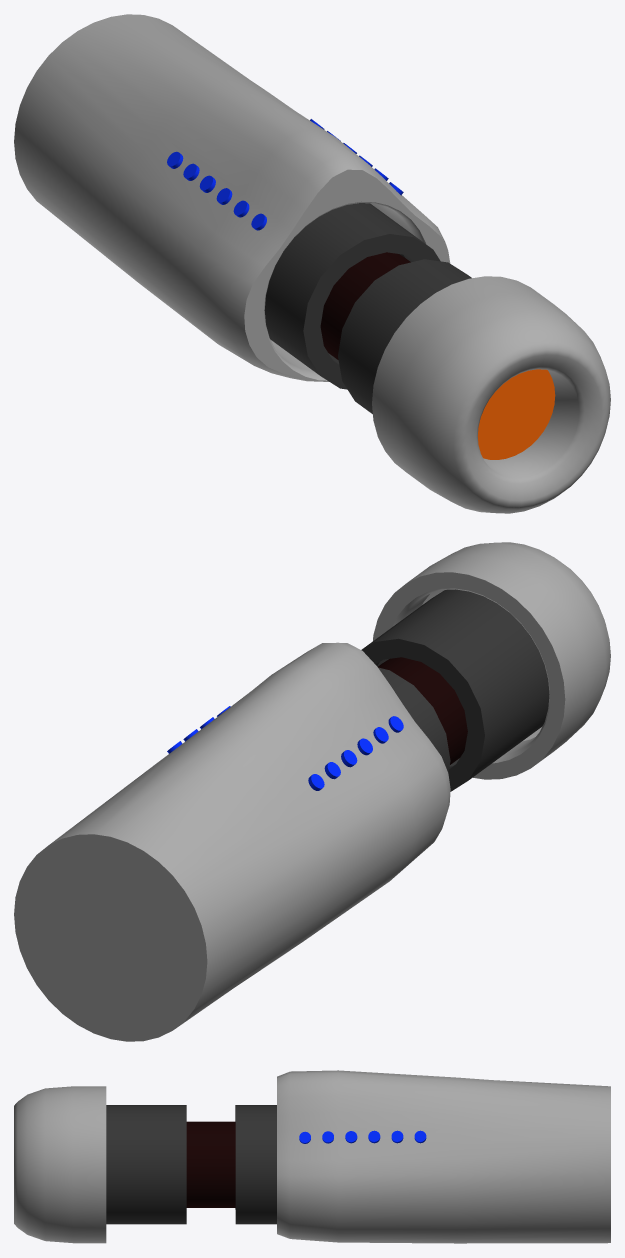
Rendered from PPWeapon.FBX.
3 views of the same model, one above another, from view 1: azimuth 30°, elevation 25°; view 2: azimuth 150°, elevation 25°; view 3: azimuth 270°, elevation 25° (orthographic). The views are drawn at different scales.
Visible parts, largest first — view 1: Weapon; view 2: Weapon; view 3: Weapon.
Part boxes in pixels (bbox=[...]): Weapon: bbox=[14, 14, 610, 513]; Weapon: bbox=[14, 542, 610, 1041]; Weapon: bbox=[14, 1070, 610, 1243].
Size of the model in its own units: 0.0911 by 0.0899 by 0.2988.
